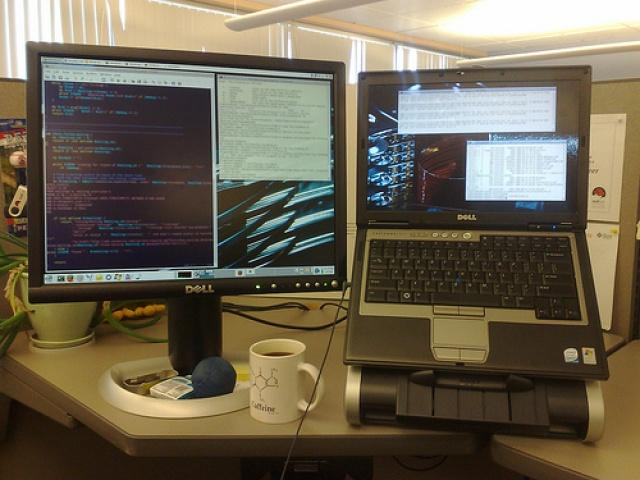AIO PC-Monitor-TV: (24, 39, 348, 304)
